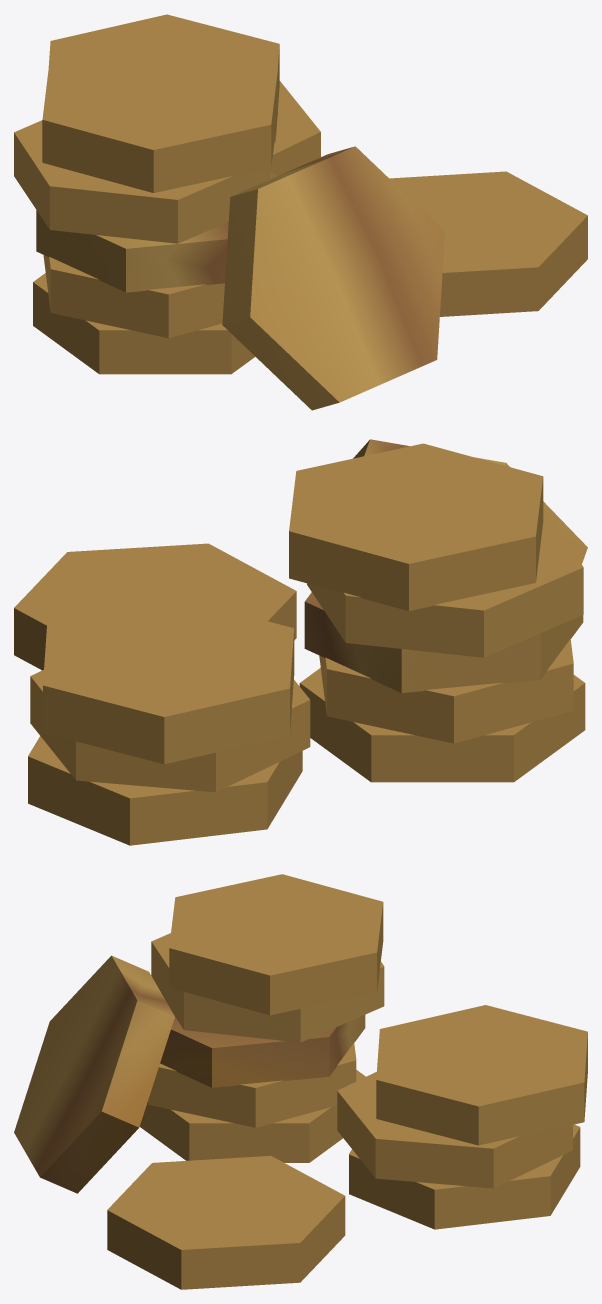
Rendered from Coin_Pile_1.fbx.
3 renders of one model, top to bottom at view 1: azimuth 30°, elevation 25°; view 2: azimuth 150°, elevation 25°; view 3: azimuth 270°, elevation 25°, orthographic. The views are drawn at different scales.
Visible parts, largest first — view 1: Coin_Pile_1; view 2: Coin_Pile_1; view 3: Coin_Pile_1.
Part boxes in pixels (box(x1,y1,x2,y2)): Coin_Pile_1: box(14, 14, 587, 410); Coin_Pile_1: box(14, 439, 587, 845); Coin_Pile_1: box(14, 874, 587, 1289).
Size of the model in its own units: 0.0465 by 0.0204 by 0.0501.
